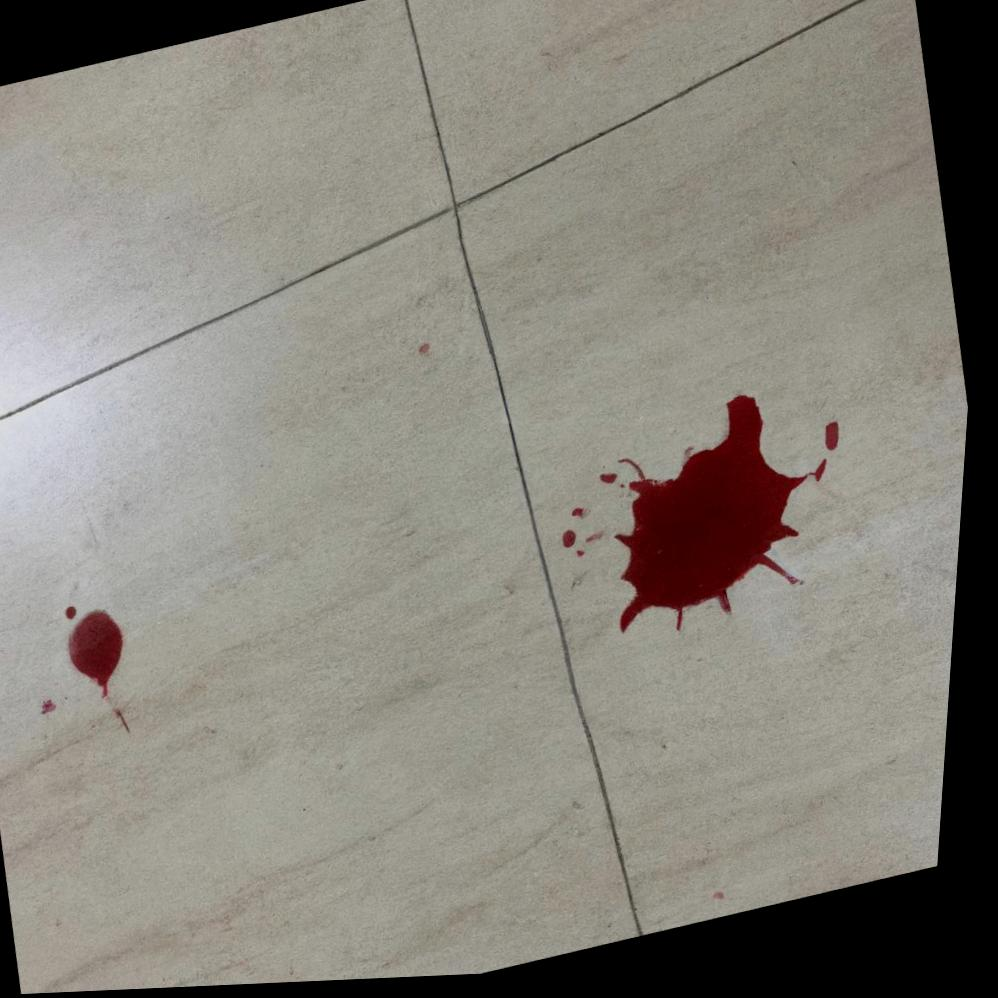Fire: (621, 400, 834, 641), (77, 612, 134, 697), (832, 429, 846, 459), (570, 535, 585, 554), (608, 478, 625, 490), (74, 605, 86, 620), (580, 512, 593, 523)
